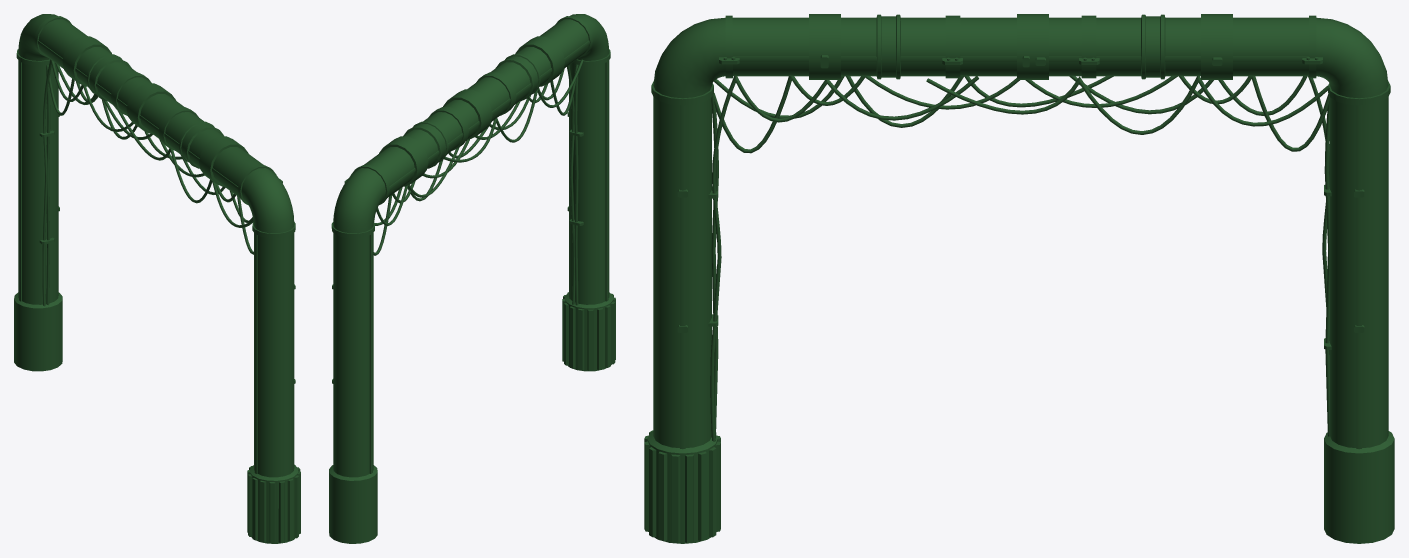
Rendered from Side_tube_03.fbx.
The picture shows the model from 3 angles, left to right: view 1: azimuth 30°, elevation 25°; view 2: azimuth 150°, elevation 25°; view 3: azimuth 270°, elevation 25°; orthographic projection. The views are drawn at different scales.
Visible parts, largest first — view 1: side_tube_03; view 2: side_tube_03; view 3: side_tube_03.
Part boxes in pixels (box(x1,y1,x2,y2)): side_tube_03: box(14, 14, 300, 543); side_tube_03: box(329, 14, 615, 543); side_tube_03: box(644, 14, 1394, 543).
Size of the model in its own units: 682 by 6645 by 5004.
